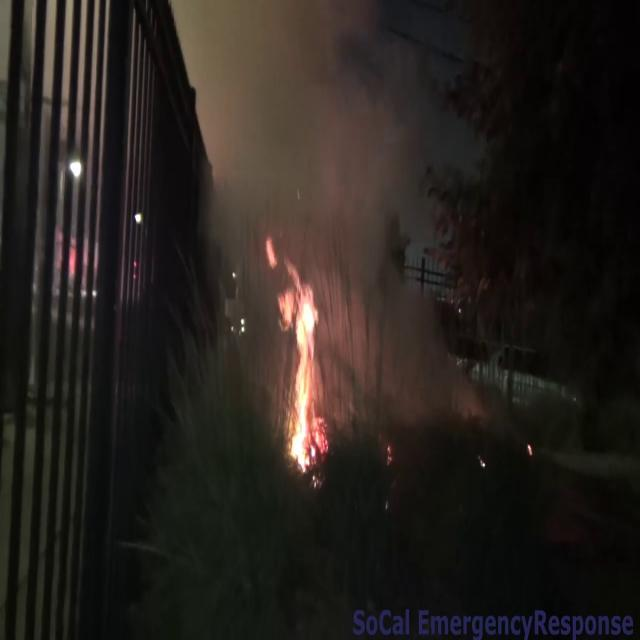Fire: (271, 260, 325, 472)
Smoke: (186, 1, 469, 414)
